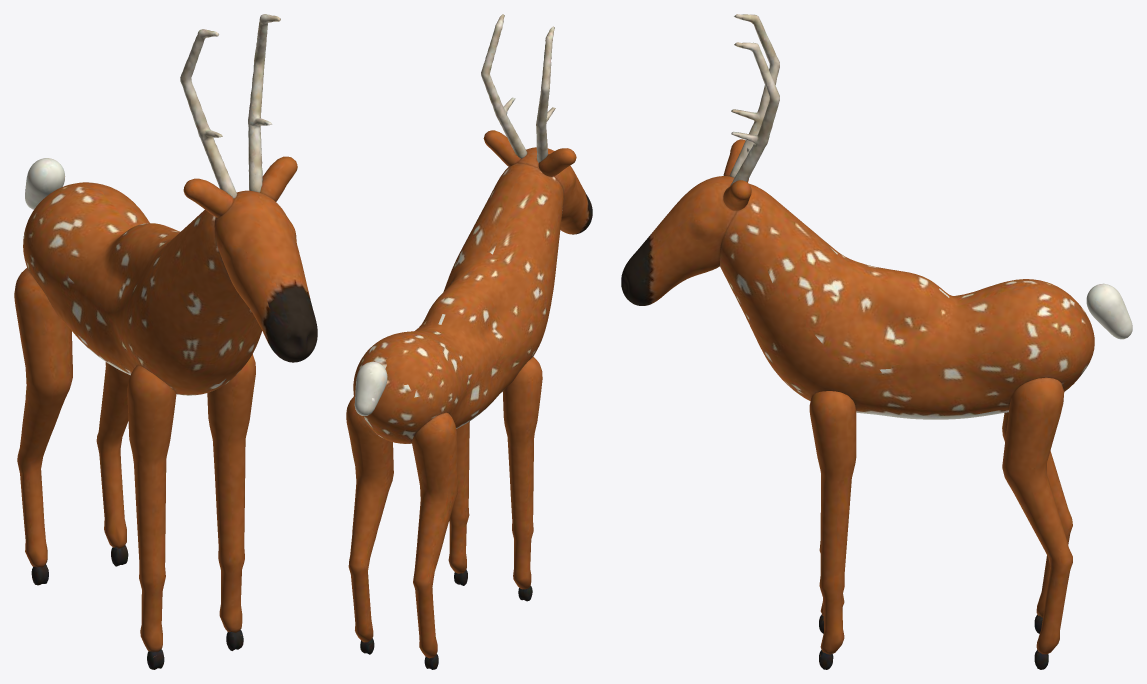
File: animal_spotted_deer.glb
The picture shows the model from 3 angles, left to right: view 1: azimuth 30°, elevation 25°; view 2: azimuth 150°, elevation 25°; view 3: azimuth 270°, elevation 25°; orthographic projection. The views are drawn at different scales.
Parts seen in each view (by area): view 1: animal_spotted_deer, head, leg2, leg0, leg1, leg3, tail; view 2: animal_spotted_deer, leg2, leg3, head, leg0, leg1, tail; view 3: animal_spotted_deer, head, leg3, leg1, tail, leg2.
Part boxes in pixels (x1,y1,x2,y2): animal_spotted_deer: [23, 182, 262, 395]; head: [180, 14, 317, 362]; leg2: [14, 268, 72, 585]; leg0: [127, 365, 176, 669]; leg1: [207, 354, 255, 650]; leg3: [96, 362, 129, 566]; tail: [25, 158, 65, 209]; animal_spotted_deer: [353, 163, 563, 443]; leg2: [411, 412, 458, 669]; leg3: [346, 396, 393, 654]; head: [481, 14, 592, 234]; leg0: [502, 356, 542, 601]; leg1: [448, 421, 469, 585]; tail: [354, 361, 387, 415]; animal_spotted_deer: [719, 183, 1094, 419]; head: [621, 14, 779, 305]; leg3: [1002, 377, 1072, 669]; leg1: [809, 391, 856, 669]; tail: [1086, 283, 1132, 339]; leg2: [1002, 412, 1072, 633].
Size of the model in its own units: 0.1492 by 0.7437 by 0.5517.
Materials: 1 (1 with a texture image).
